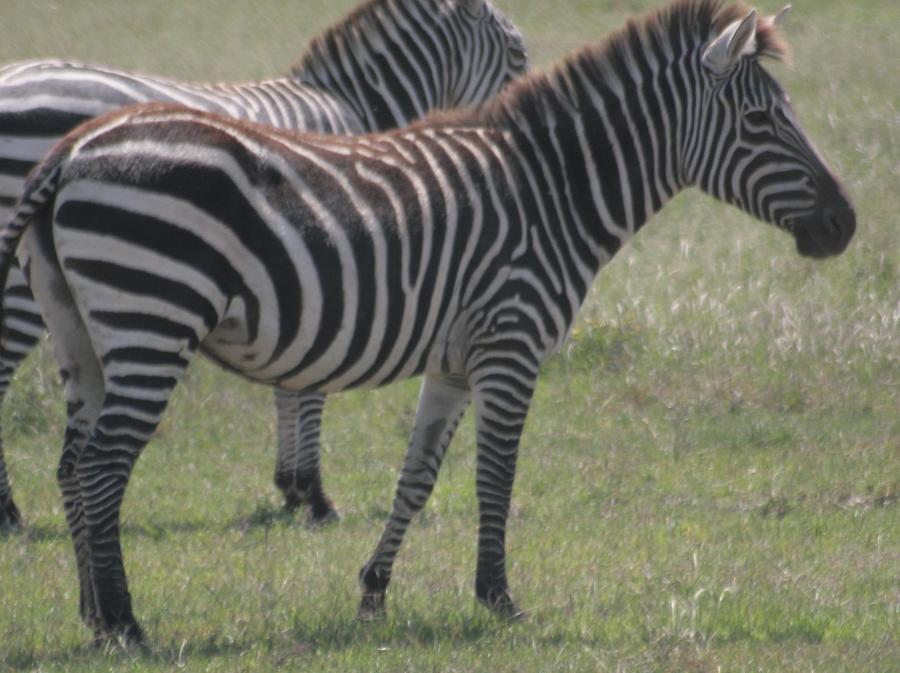zebra_plains: (70, 96, 591, 382)
